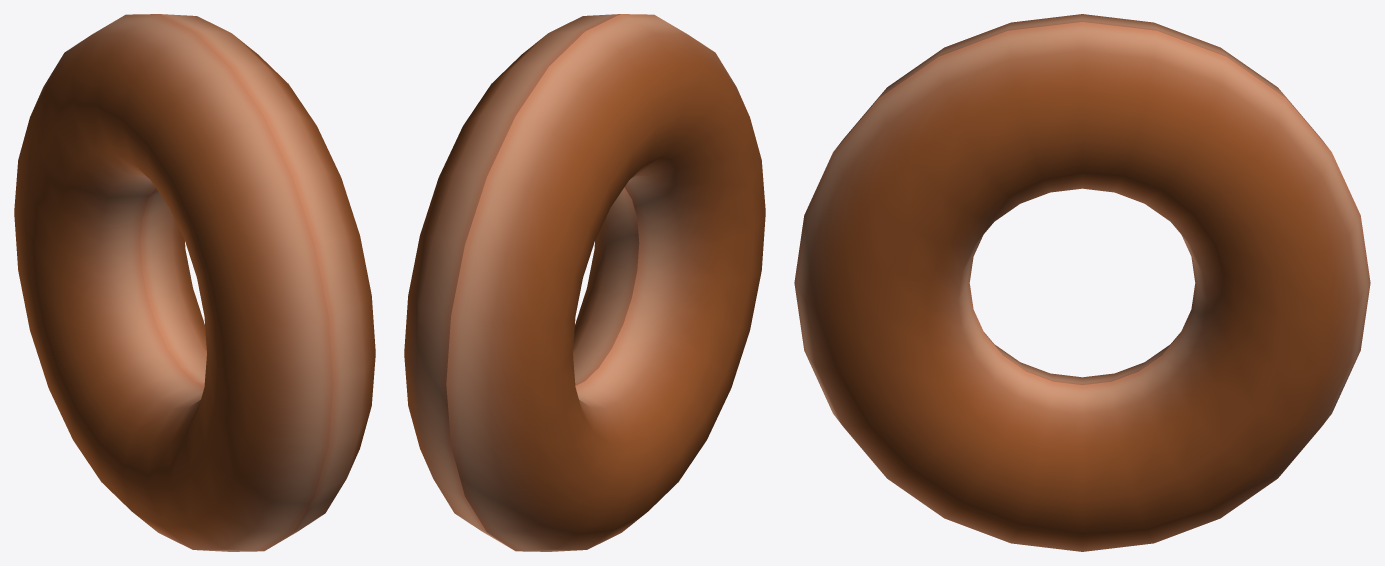
Rendered from Dounat_pieces.fbx.
3 views of the same model, side by side, from view 1: azimuth 30°, elevation 25°; view 2: azimuth 150°, elevation 25°; view 3: azimuth 270°, elevation 25° (orthographic). The views are drawn at different scales.
Visible parts, largest first — view 1: Dounat_piece_1, Dounat_piece_2; view 2: Dounat_piece_1, Dounat_piece_2; view 3: Dounat_piece_2, Dounat_piece_1.
Part boxes in pixels (x1,y1,x2,y2): Dounat_piece_1: (14,14,333,551); Dounat_piece_2: (140,14,375,549); Dounat_piece_1: (446,14,765,551); Dounat_piece_2: (404,14,639,549); Dounat_piece_2: (794,22,1370,551); Dounat_piece_1: (834,14,1330,384).
Bounding box in the file's own units: 196 × 644 × 644.
